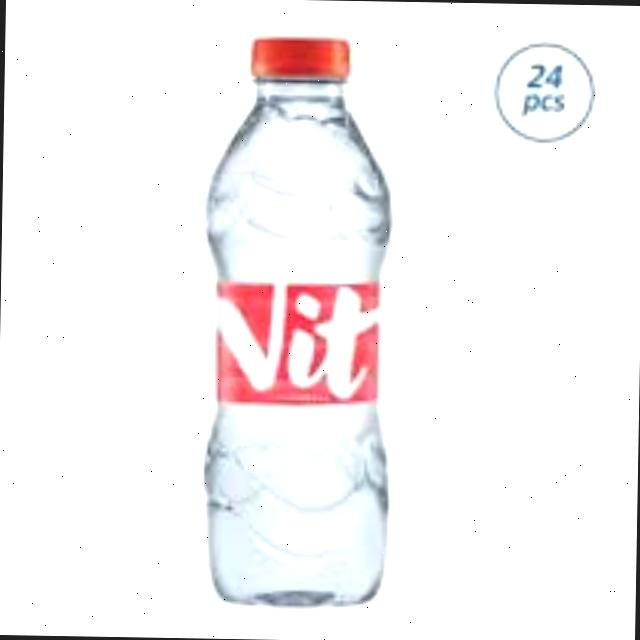trash: (192, 28, 406, 616)
